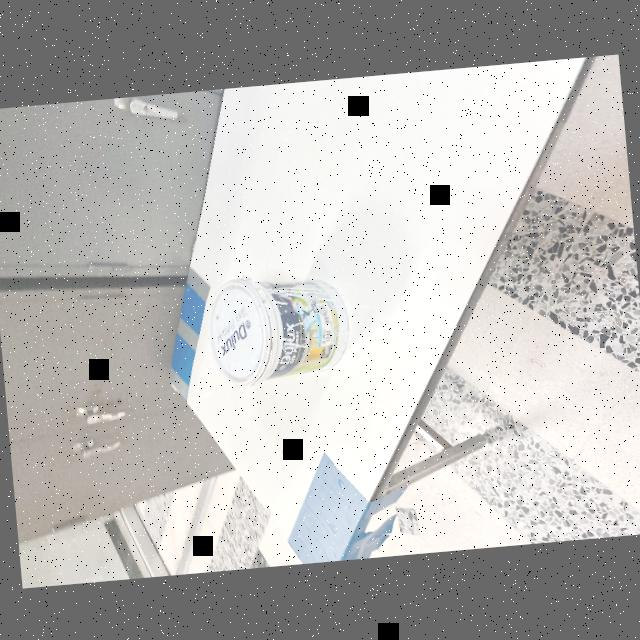paint_bucket: (198, 263, 350, 389)
